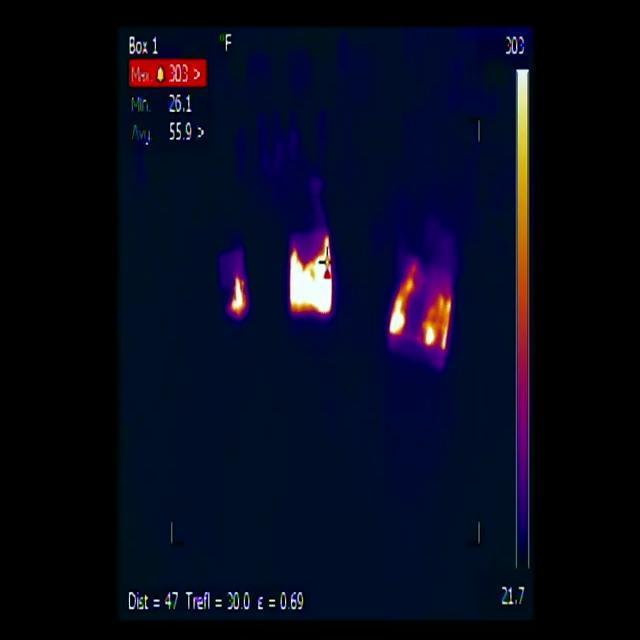fire: (290, 230, 336, 316), (422, 292, 454, 357), (391, 270, 416, 340), (229, 271, 249, 321)
